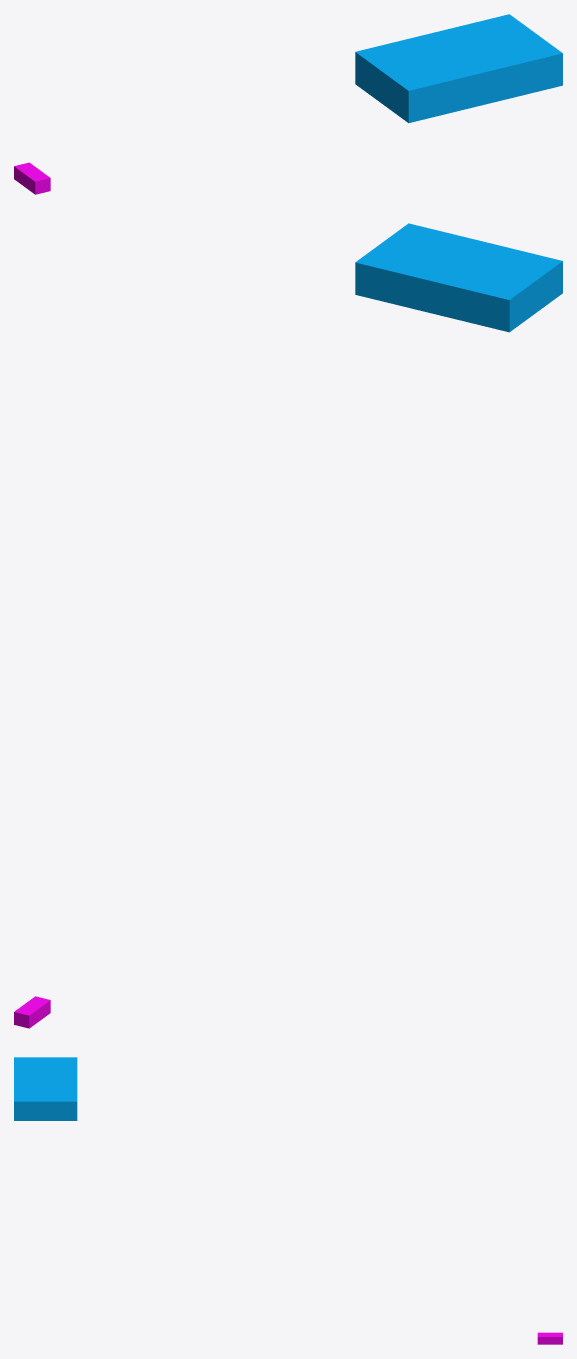
Rendered from CutPoint.gltf.
3 views of the same model, one above another, from view 1: azimuth 30°, elevation 25°; view 2: azimuth 150°, elevation 25°; view 3: azimuth 270°, elevation 25° (orthographic). The views are drawn at different scales.
Visible parts, largest first — view 1: CutPoint, CutPoint_WalkTarget; view 2: CutPoint; view 3: CutPoint.
Boxes of the visible parts, bbox=[...] form: CutPoint: bbox=[355, 14, 562, 123]; CutPoint_WalkTarget: bbox=[14, 162, 50, 194]; CutPoint: bbox=[355, 223, 562, 332]; CutPoint: bbox=[14, 1057, 77, 1120].
Bounding box in the file's own units: 0.5 × 1.38 × 2.6.
